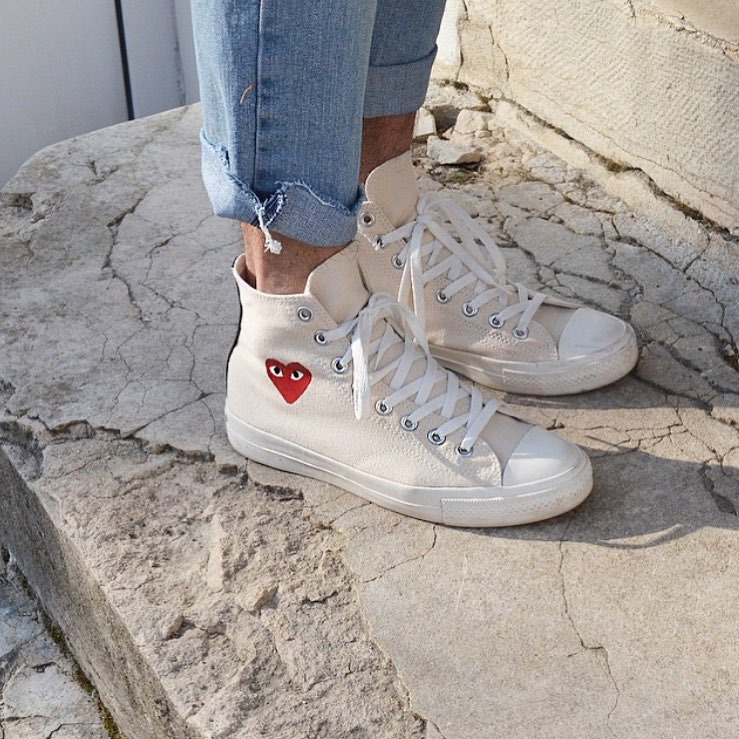sneaker: (181, 209, 613, 554), (292, 102, 662, 416)
